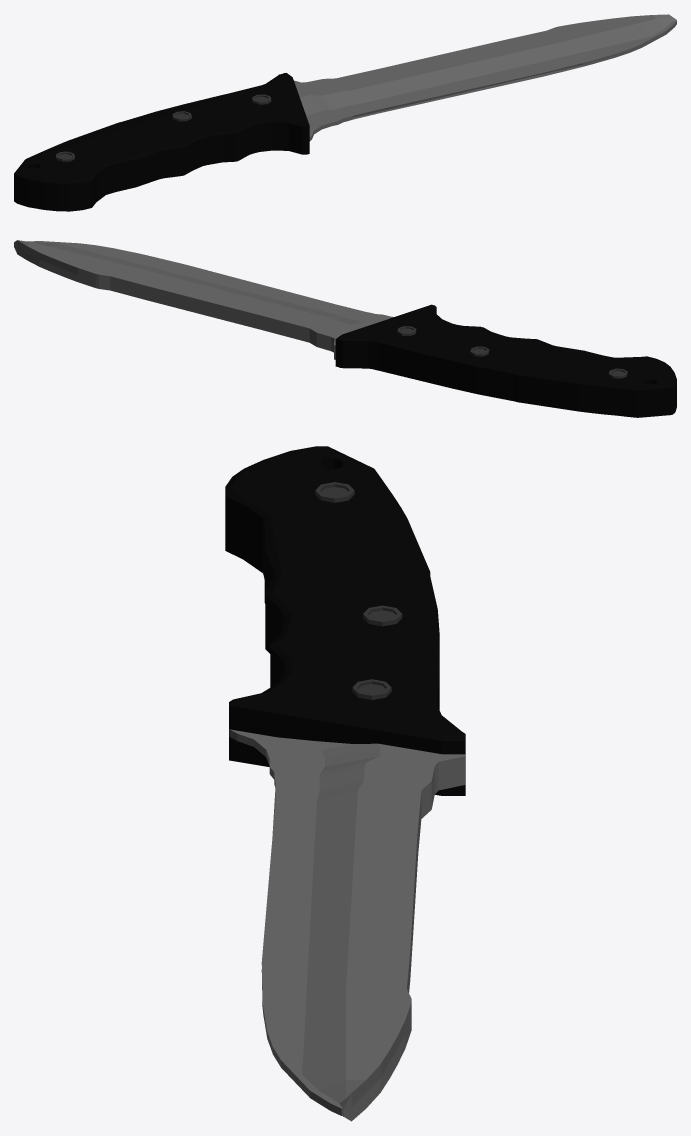
File: knife_02.fbx
The picture shows the model from 3 angles, top to bottom: view 1: azimuth 30°, elevation 25°; view 2: azimuth 150°, elevation 25°; view 3: azimuth 270°, elevation 25°; orthographic projection. The views are drawn at different scales.
Visible parts, largest first — view 1: Knife_02, Blade.005; view 2: Knife_02, Blade.005; view 3: Blade.005, Knife_02.
Boxes of the visible parts, bbox=[...] form: Knife_02: bbox=[14, 73, 309, 211]; Blade.005: bbox=[294, 14, 676, 141]; Knife_02: bbox=[335, 304, 676, 417]; Blade.005: bbox=[14, 240, 393, 359]; Blade.005: bbox=[229, 729, 465, 1121]; Knife_02: bbox=[225, 446, 465, 795].
Bounding box in the file's own units: 539 × 27.09 × 85.77.
